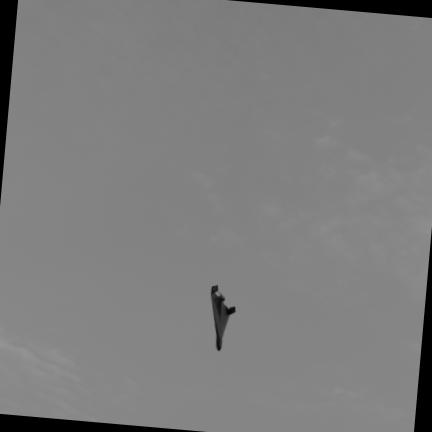Shahed: (210, 286, 236, 351)
